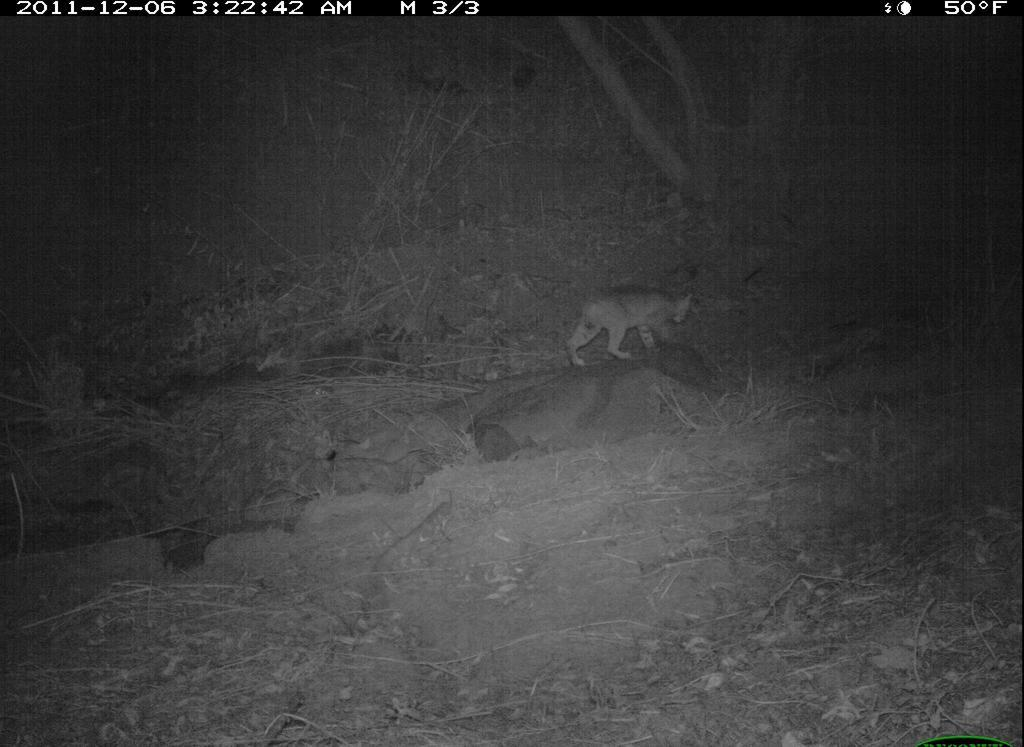bobcat: (556, 274, 702, 382)
